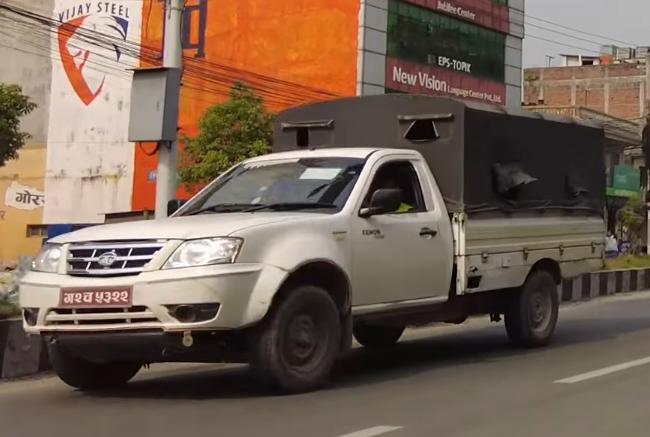transport_vehicle: (21, 87, 610, 407)
